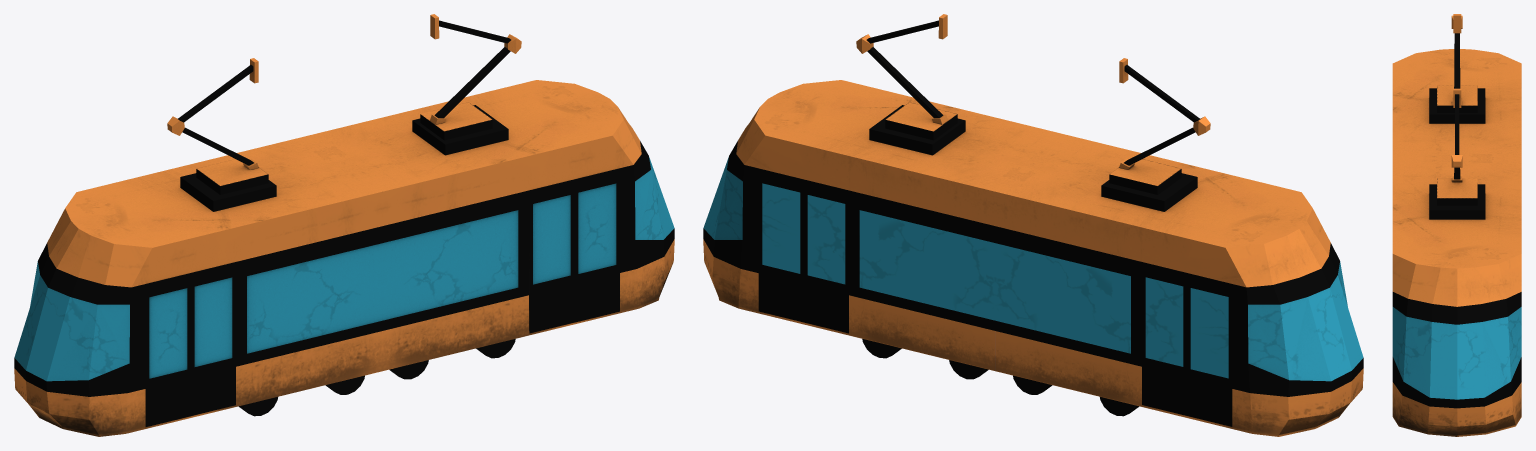
The model's file is tram.fbx.
The picture shows the model from 3 angles, left to right: view 1: azimuth 30°, elevation 25°; view 2: azimuth 150°, elevation 25°; view 3: azimuth 270°, elevation 25°; orthographic projection. The views are drawn at different scales.
Visible parts, largest first — view 1: Cube; view 2: Cube; view 3: Cube.
Part boxes in pixels (x1,y1,x2,y2): Cube: (14,14,674,436); Cube: (703,14,1363,436); Cube: (1392,14,1521,436).
Bounding box in the file's own units: 551 × 267 × 114.
3 materials, 2 textured.
